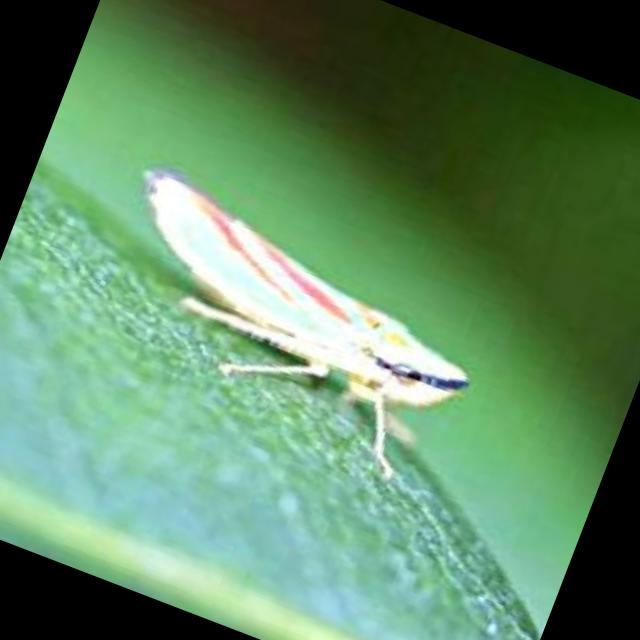green-leafhopper: (90, 154, 505, 460)
